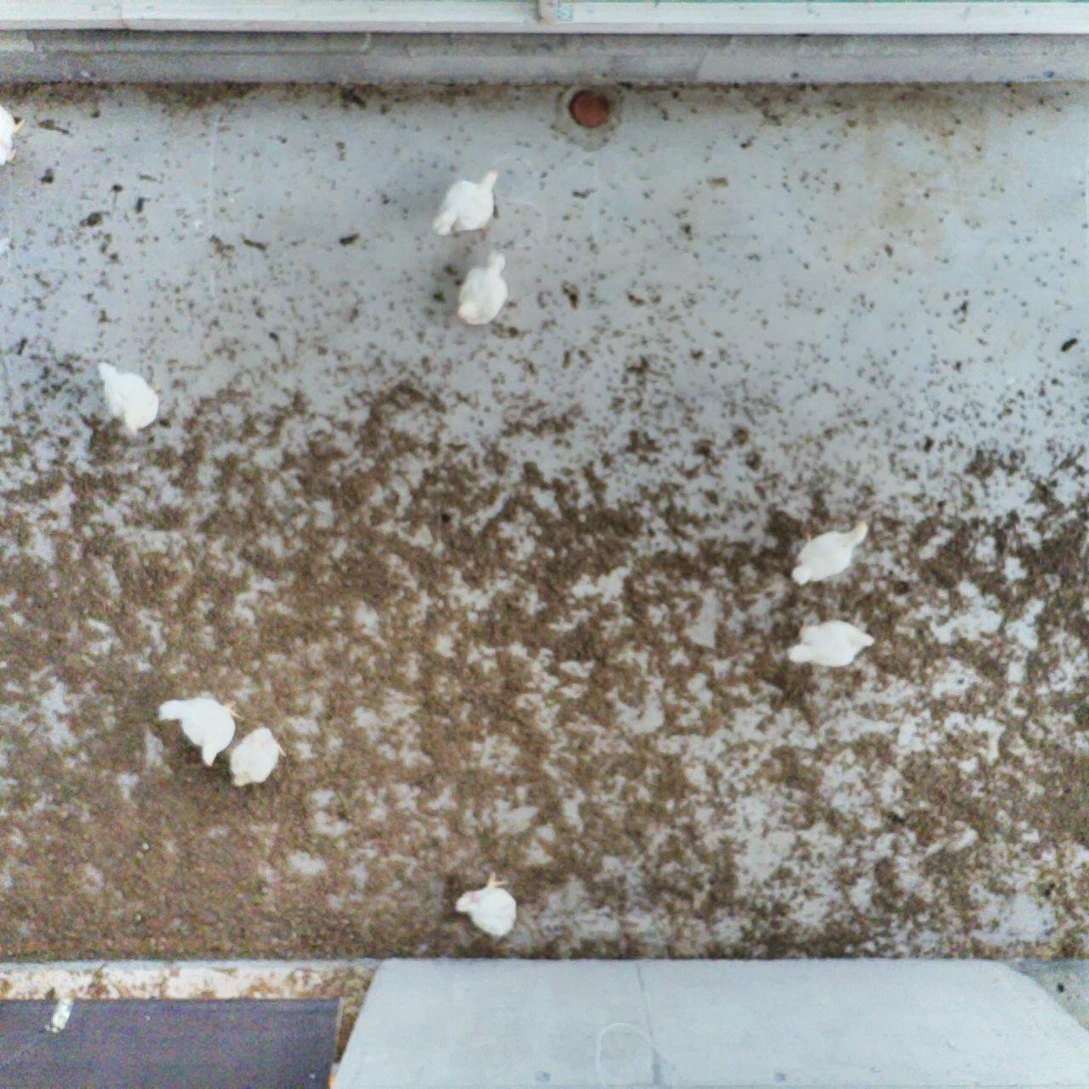chicken: (157, 690, 243, 770), (788, 514, 875, 586), (88, 357, 163, 436), (430, 164, 506, 240), (784, 614, 877, 667), (449, 875, 521, 940), (454, 250, 512, 328), (228, 721, 285, 790), (0, 99, 28, 175)
